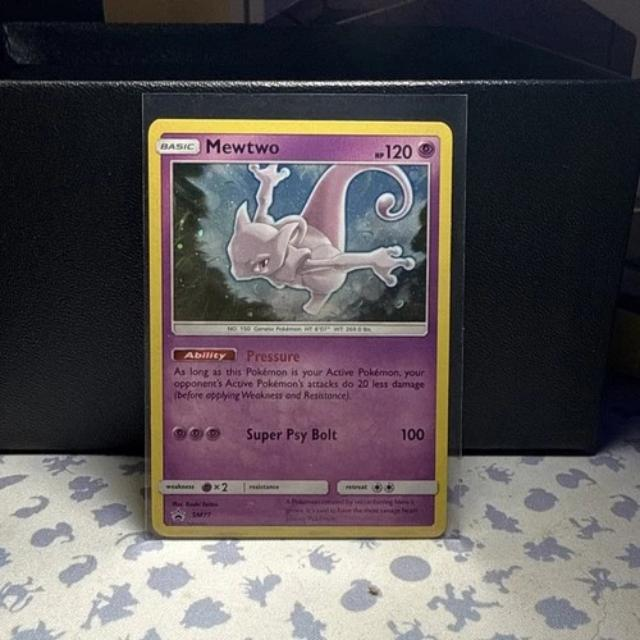Card: (140, 115, 456, 541)
Name: (196, 133, 284, 157)
